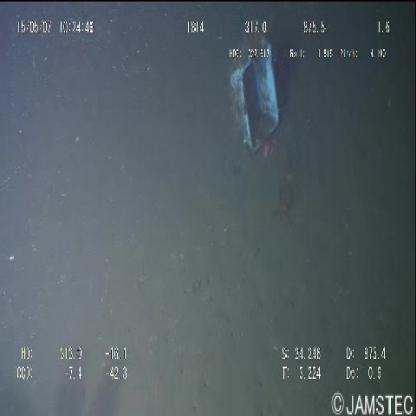Rác: (226, 32, 284, 152)
